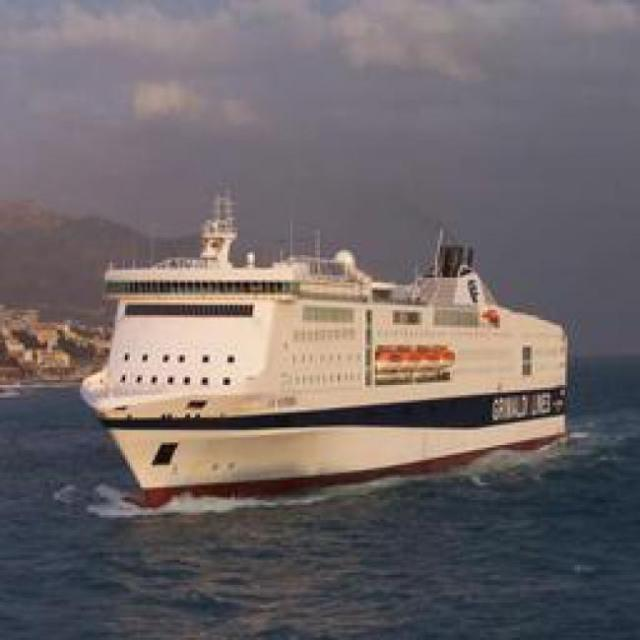boat: (48, 241, 597, 495)
